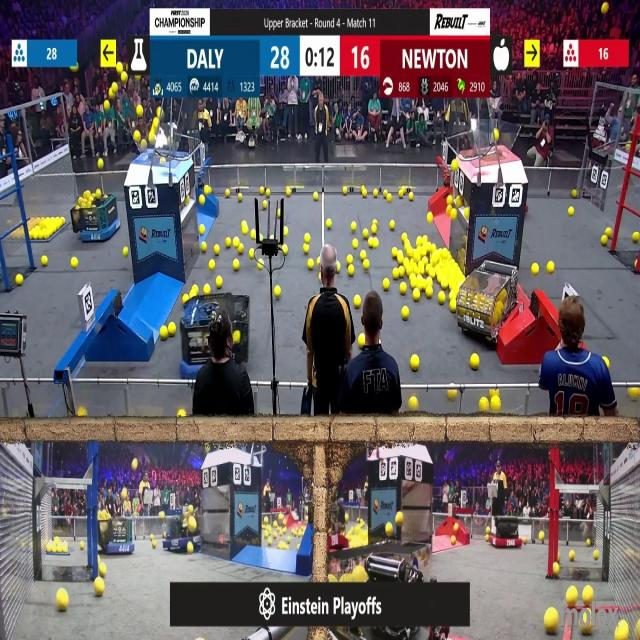ball_airborne: (137, 105, 144, 117), (602, 2, 608, 15), (493, 130, 500, 141), (148, 134, 155, 145), (98, 160, 105, 171), (151, 118, 158, 128), (104, 101, 110, 112), (452, 161, 458, 172), (121, 488, 127, 499), (133, 459, 139, 470), (140, 140, 148, 148), (120, 72, 126, 82), (134, 132, 140, 142), (111, 84, 117, 94), (112, 82, 118, 91), (148, 129, 156, 135), (155, 108, 160, 116), (140, 482, 145, 490), (626, 143, 630, 151), (161, 160, 166, 166)
ball_ground: (544, 610, 556, 636), (566, 588, 577, 608), (58, 590, 69, 610), (583, 586, 594, 606), (95, 579, 105, 597), (480, 396, 490, 411), (469, 353, 478, 369), (412, 354, 421, 370), (629, 387, 639, 400), (410, 396, 419, 410), (583, 624, 593, 636), (358, 335, 366, 349), (100, 563, 107, 577), (169, 322, 176, 336), (554, 562, 561, 576), (439, 291, 447, 303), (14, 274, 22, 286), (449, 389, 457, 401), (70, 256, 78, 268), (161, 326, 169, 338), (546, 263, 554, 275), (401, 307, 408, 320), (274, 286, 282, 297), (204, 284, 212, 295), (189, 285, 197, 296), (383, 278, 390, 290), (354, 294, 361, 306), (532, 265, 539, 277), (414, 289, 421, 300), (216, 276, 222, 288), (78, 409, 86, 418), (399, 282, 405, 294), (392, 268, 398, 280), (349, 266, 355, 278), (187, 542, 193, 553), (234, 261, 240, 272), (200, 223, 206, 234), (426, 287, 432, 298), (213, 244, 220, 253), (41, 255, 47, 265), (210, 262, 216, 272), (305, 234, 311, 244), (363, 261, 369, 271), (309, 260, 315, 270), (450, 302, 456, 312), (202, 242, 208, 252), (234, 238, 240, 248), (72, 260, 79, 268), (178, 410, 185, 418), (389, 220, 396, 228), (304, 244, 310, 253), (400, 233, 406, 242), (264, 201, 270, 210), (398, 269, 404, 278), (360, 250, 366, 259), (569, 551, 574, 561), (594, 551, 599, 561), (392, 248, 397, 258), (225, 238, 230, 248), (351, 221, 356, 231), (367, 238, 372, 248), (307, 260, 312, 270), (279, 541, 286, 548), (352, 240, 358, 248), (256, 264, 262, 272), (182, 294, 188, 302), (601, 237, 607, 245), (238, 245, 244, 253), (325, 219, 331, 227), (348, 254, 353, 263), (249, 249, 254, 258), (363, 230, 368, 239), (428, 212, 432, 223), (568, 208, 573, 216), (122, 248, 127, 256), (417, 238, 422, 246), (337, 264, 341, 273), (284, 246, 288, 255), (284, 226, 288, 235), (224, 189, 229, 196), (410, 192, 414, 200), (314, 191, 318, 199), (80, 540, 84, 548), (346, 514, 350, 522), (588, 539, 592, 546), (202, 200, 206, 206), (274, 522, 278, 528), (296, 542, 299, 550), (279, 208, 281, 216)
goal: (464, 124, 520, 159)
robot_blue: (180, 293, 252, 383), (73, 190, 121, 243), (162, 511, 203, 551), (104, 521, 138, 555)
robot_red: (456, 266, 520, 344), (490, 516, 520, 547)
